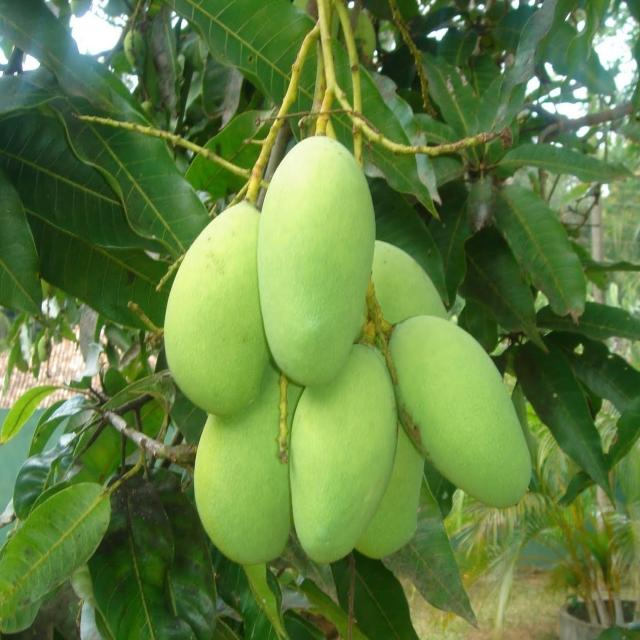mango: (261, 129, 374, 379), (386, 316, 529, 506), (289, 344, 398, 560), (164, 202, 274, 412), (193, 370, 297, 564)
